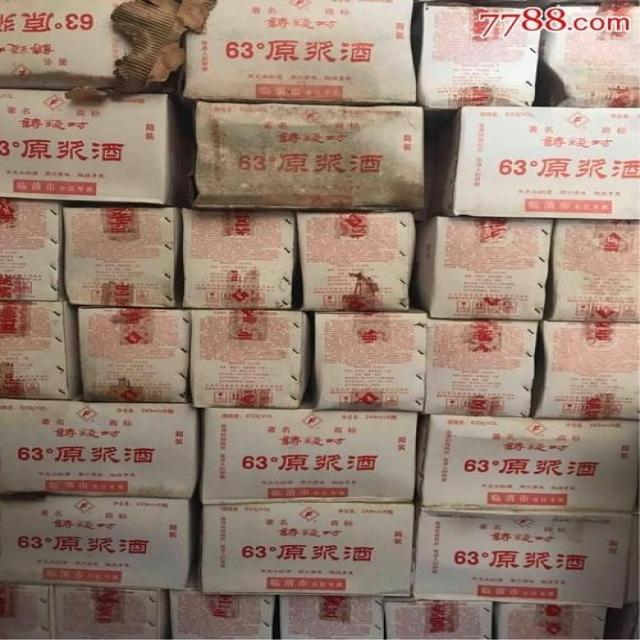box: (420, 107, 639, 224), (197, 97, 421, 209), (173, 0, 415, 103), (410, 506, 633, 609), (3, 89, 199, 204), (195, 406, 419, 506), (415, 415, 639, 510), (202, 502, 417, 597), (2, 397, 196, 500), (4, 495, 193, 588), (0, 0, 182, 94), (406, 212, 556, 320), (303, 296, 428, 411), (416, 3, 549, 107), (175, 207, 300, 311), (58, 201, 180, 306), (187, 309, 313, 408), (302, 208, 417, 311), (74, 304, 196, 400), (428, 318, 539, 421), (536, 4, 639, 108), (530, 320, 637, 420), (546, 222, 639, 321), (1, 300, 81, 397), (51, 580, 170, 637), (0, 198, 66, 300), (164, 588, 276, 639), (270, 594, 390, 638), (386, 594, 494, 639), (493, 600, 613, 634), (0, 581, 53, 638), (622, 509, 639, 603)
